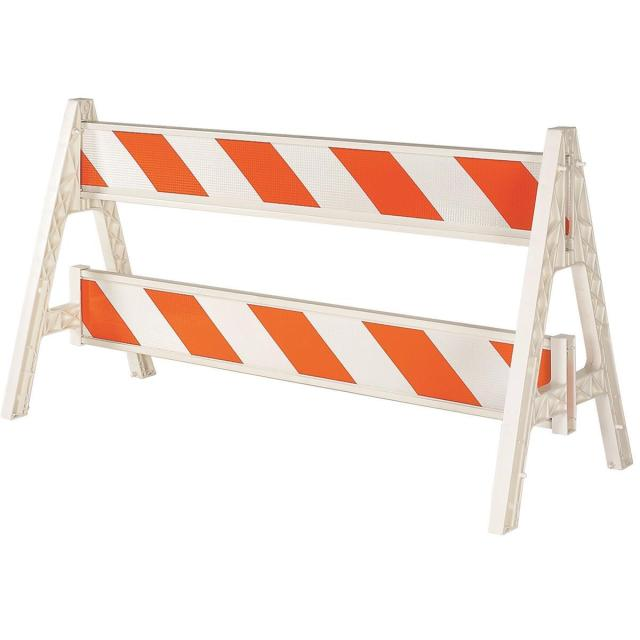cone: (2, 97, 633, 535)
